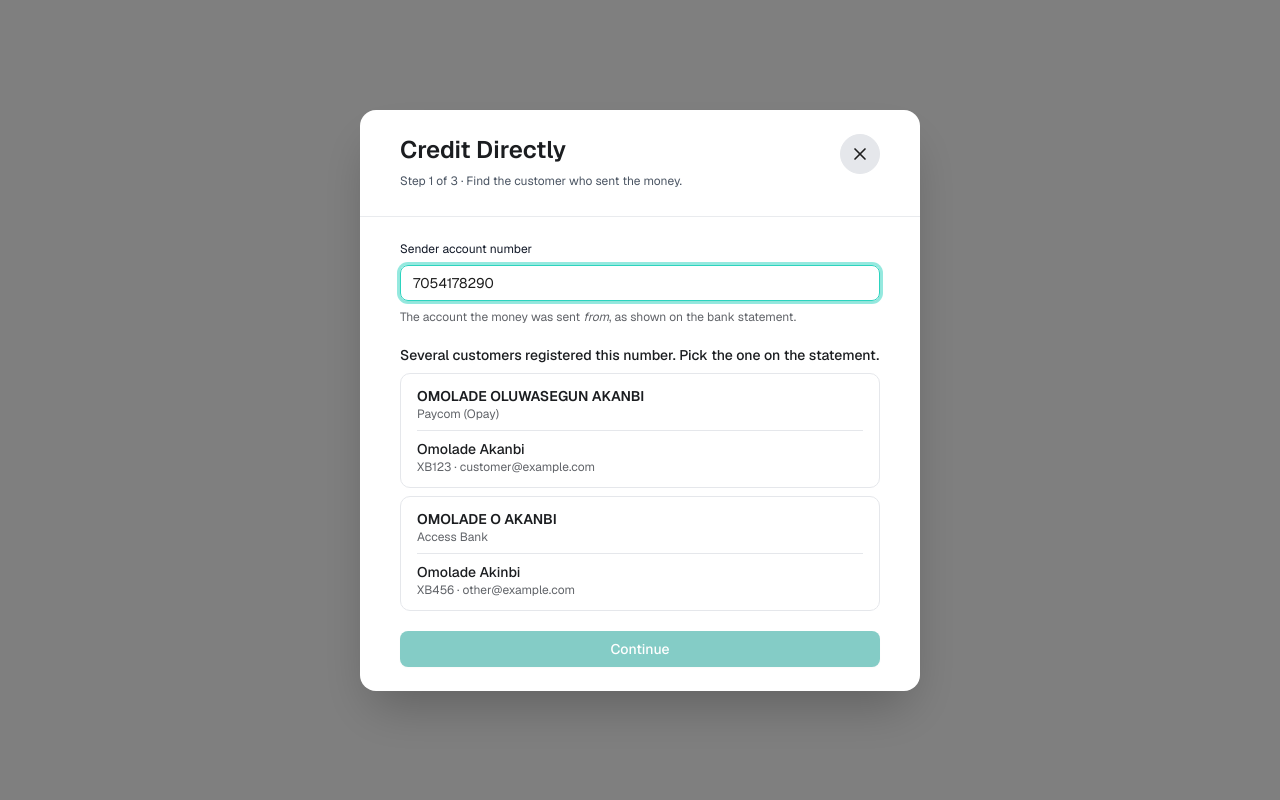
CreditDirectlyModal: finding the customer › makes staff pick when several customers registered the number
This screenshot has width=1280, height=800.
Expected: the text "Several customers registered this number" is shown, [400,346,879,364]
Expected: the button "Continue" is disabled, [400,630,880,666]
Click the radio button labelled "OMOLADE O AKANBI" at coordinates (640, 553), box [400,496,880,610]
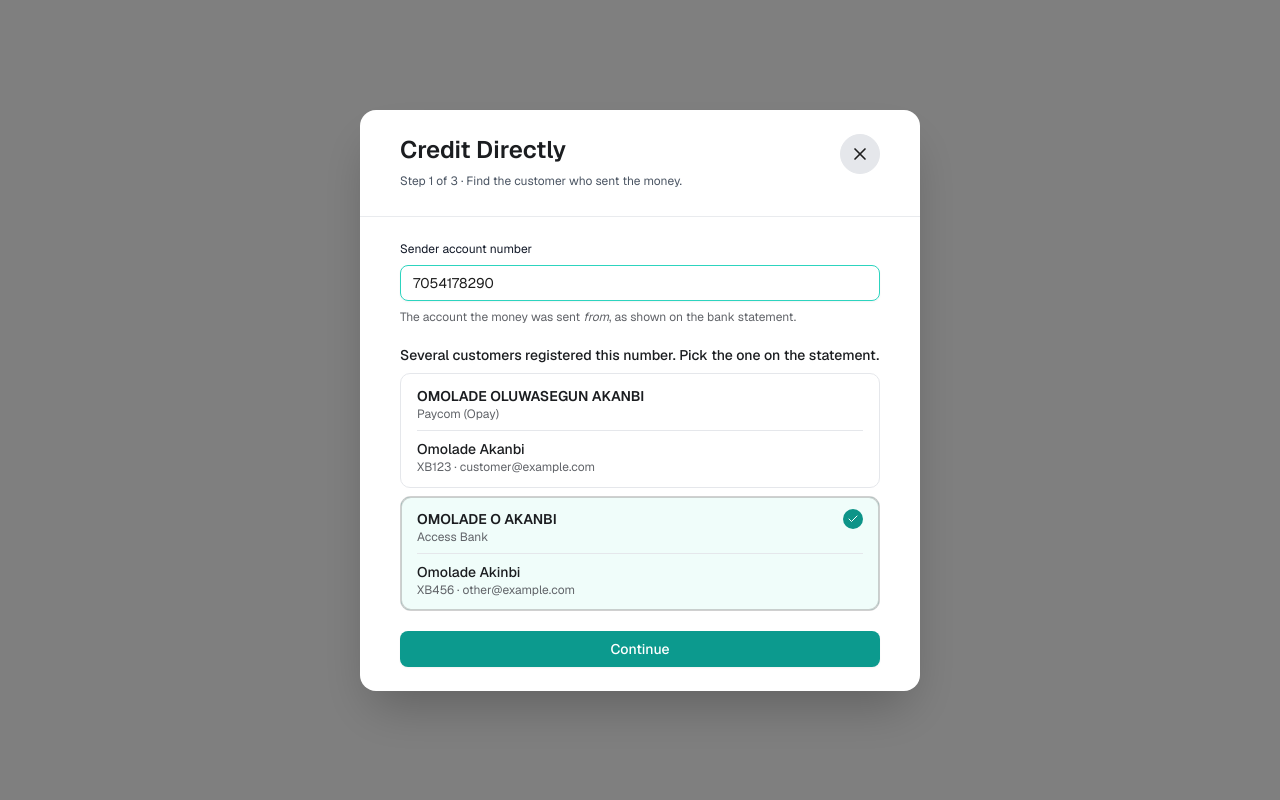
Now the button "Continue" is enabled
Click the button "Continue" at coordinates (640, 648), box [400,630,880,666]
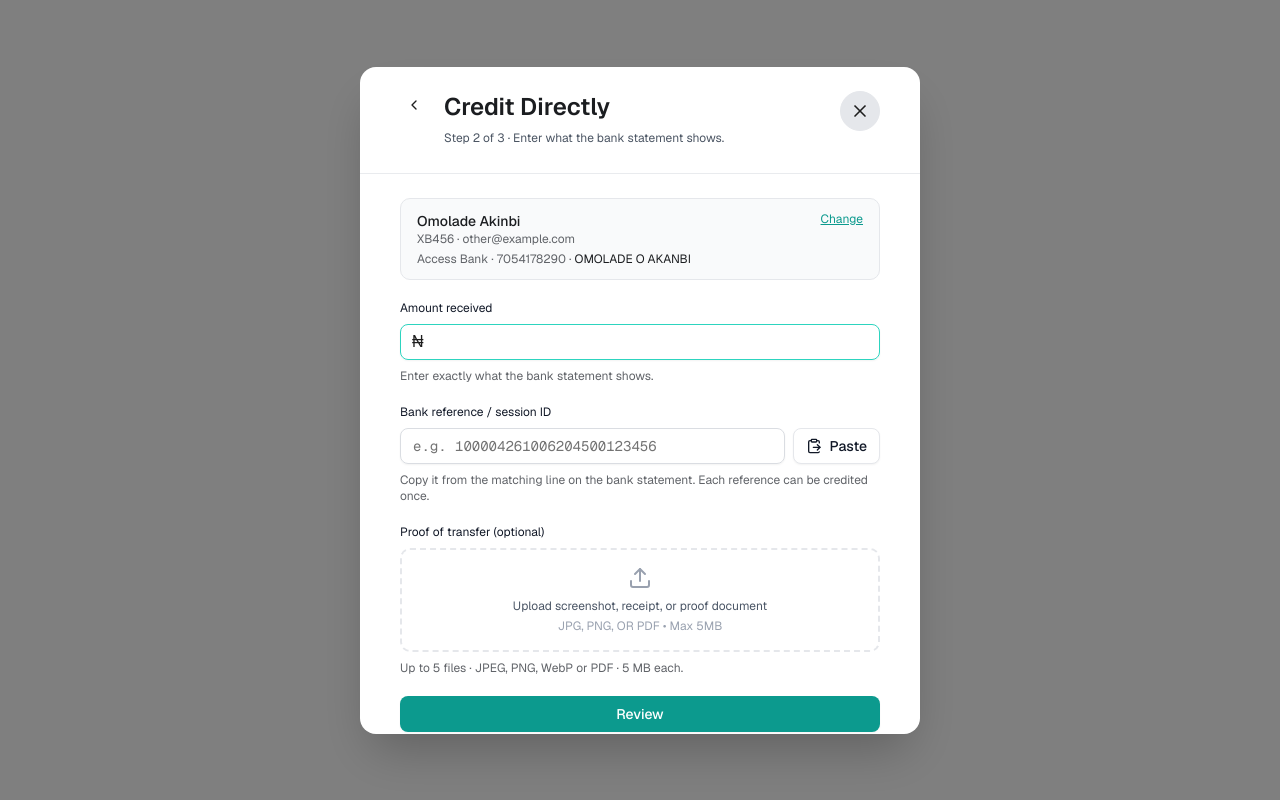
Expected: the text "Omolade Akinbi" is shown, [417,212,520,230]
Now the field labelled "Amount received" is shown, box [400,324,880,360]
